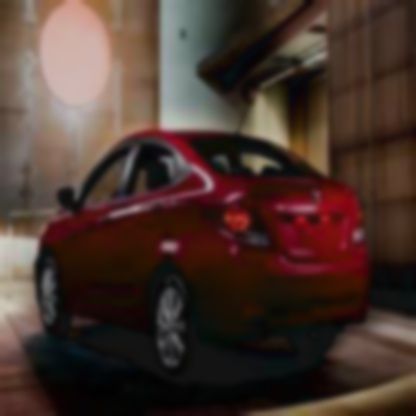Vehicle: (32, 108, 374, 391)
